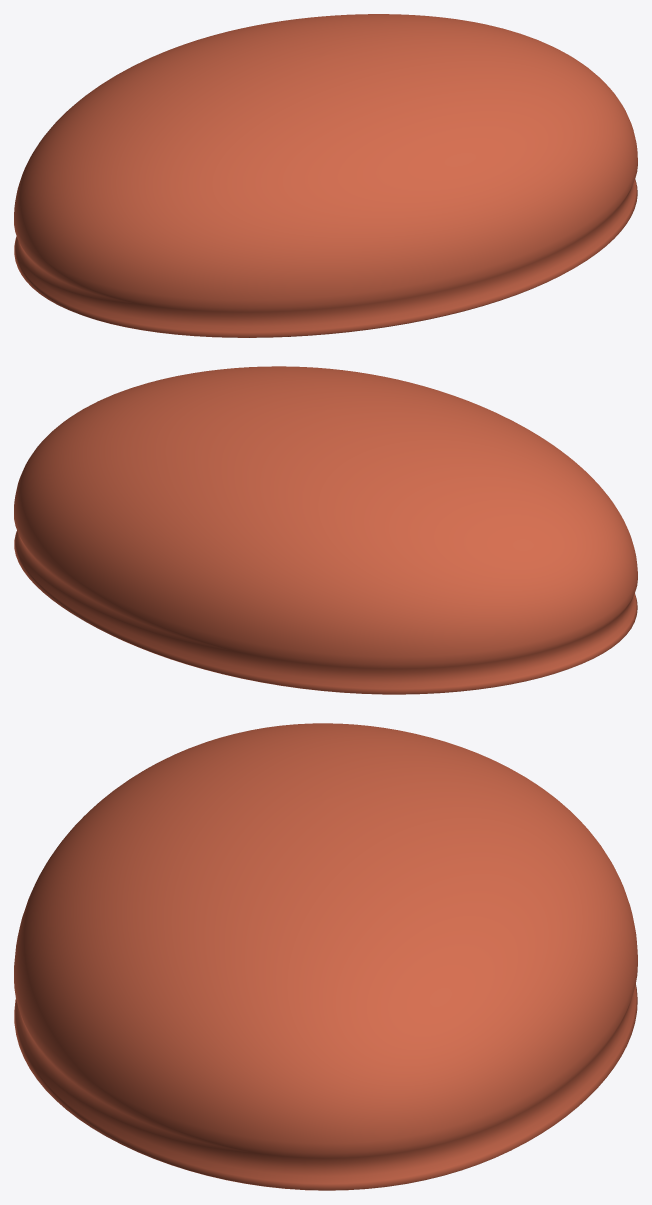
File: moonga.glb
3 views of the same model, one above another, from view 1: azimuth 30°, elevation 25°; view 2: azimuth 150°, elevation 25°; view 3: azimuth 270°, elevation 25° (orthographic). The views are drawn at different scales.
Parts seen in each view (by area): view 1: stone; view 2: stone; view 3: stone.
Boxes of the visible parts, <box> form: stone: <box>14,14,637,337</box>; stone: <box>14,366,637,694</box>; stone: <box>14,723,637,1190</box>.
Bounding box in the file's own units: 1.21 × 0.378 × 0.9009.
